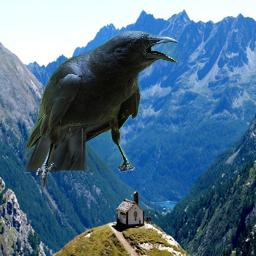Crow: (21, 30, 179, 188)
